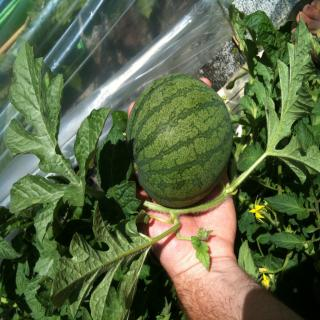Watermelon: (127, 73, 234, 207)
